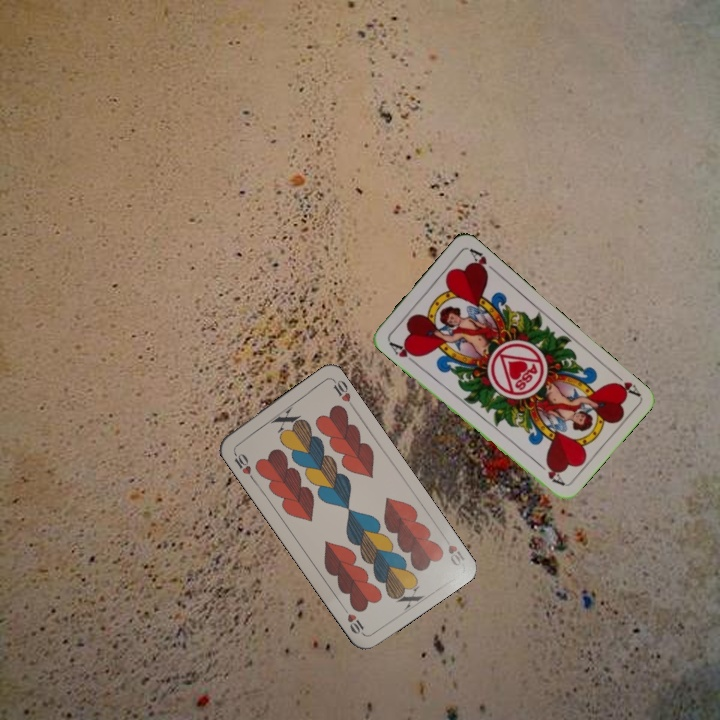H10: (438, 530, 468, 569), (229, 447, 257, 483)
HA: (608, 367, 642, 399), (385, 337, 421, 367)
